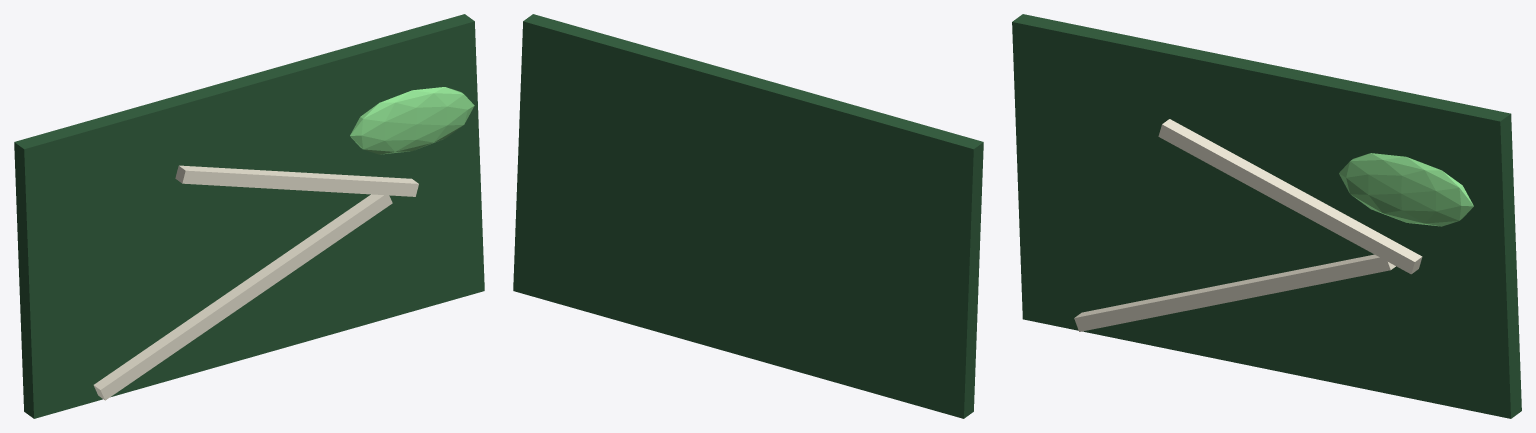
The model's file is 06_weathering_wear_overlay_6.glb.
3 views of the same model, side by side, from view 1: azimuth 30°, elevation 25°; view 2: azimuth 150°, elevation 25°; view 3: azimuth 330°, elevation 25° (orthographic). The views are drawn at different scales.
Visible parts, largest first — view 1: wear_plate, scratch_a, rust_or_moss_spot, scratch_b; view 2: wear_plate; view 3: wear_plate, rust_or_moss_spot, scratch_b, scratch_a.
Boxes of the visible parts, x1,y1,x2,y2 form: wear_plate: (14, 14, 484, 418); scratch_a: (93, 194, 392, 400); rust_or_moss_spot: (350, 87, 474, 154); scratch_b: (175, 165, 418, 196); wear_plate: (513, 14, 983, 418); wear_plate: (1012, 14, 1521, 418); rust_or_moss_spot: (1339, 153, 1473, 226); scratch_b: (1158, 119, 1422, 274); scratch_a: (1074, 254, 1395, 331).
Bounding box in the file's own units: 1.33 × 0.7991 × 0.134.
